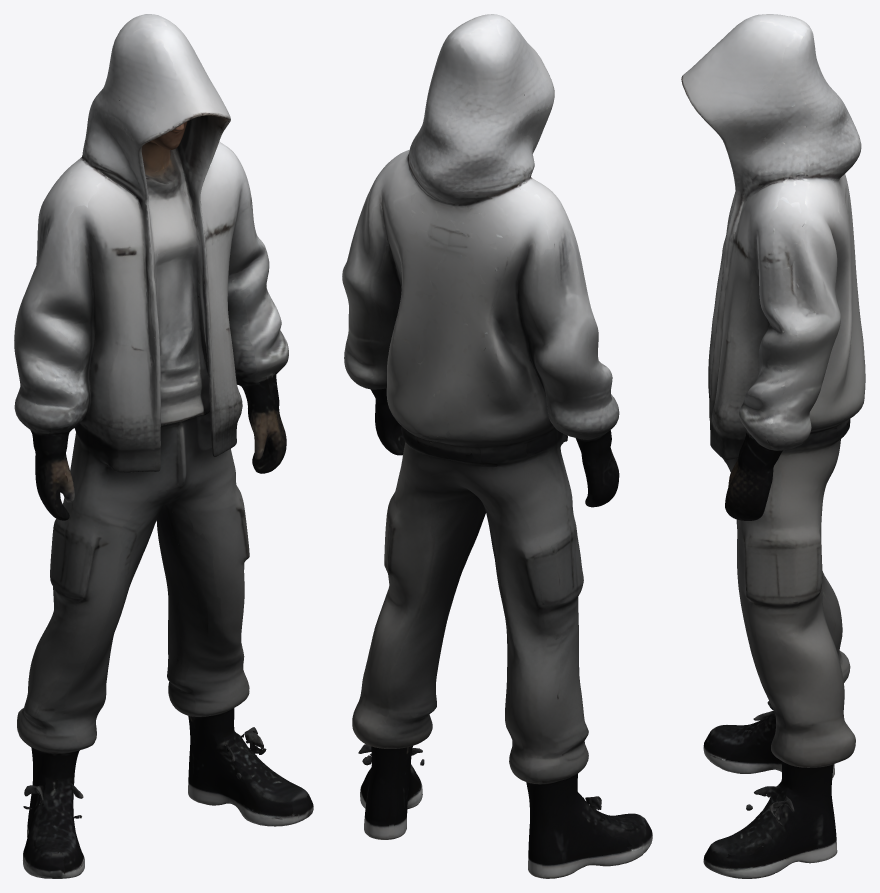
Rendered from trellis-concept1.tex-esrgan2x.glb.
3 renders of one model, left to right at view 1: azimuth 30°, elevation 25°; view 2: azimuth 150°, elevation 25°; view 3: azimuth 270°, elevation 25°, orthographic.
Visible parts, largest first — view 1: world; view 2: world; view 3: world.
Boxes of the visible parts, box(x1,y1,x2,y2) form: world: box(14, 14, 313, 878); world: box(342, 14, 652, 878); world: box(681, 14, 865, 878).
Bounding box in the file's own units: 0.3579 × 0.9998 × 0.2085.
Materials: 1 (1 with a texture image).
